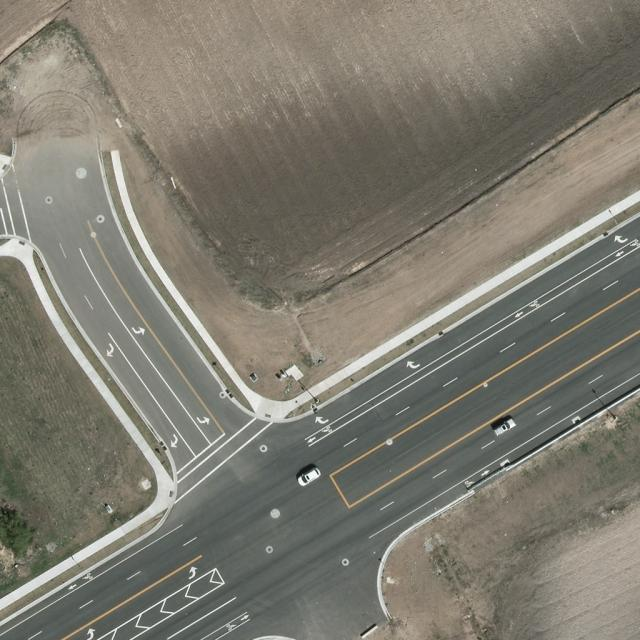vehicle: (297, 467, 322, 489), (494, 419, 516, 437)
